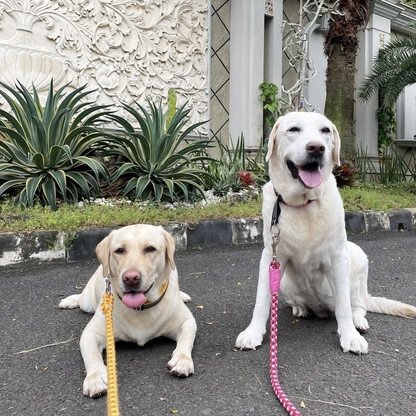labrado: (232, 109, 416, 356), (50, 218, 205, 401)
